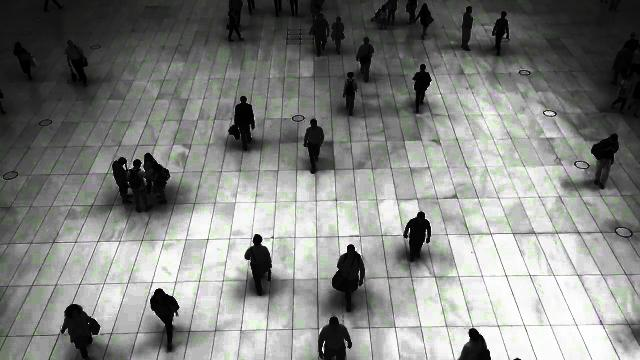berjalan: (148, 284, 186, 354), (334, 240, 366, 314), (590, 128, 622, 196), (244, 229, 274, 299), (401, 206, 434, 264), (227, 94, 261, 150), (300, 114, 326, 174), (62, 36, 88, 88), (408, 62, 434, 112), (492, 8, 516, 58), (310, 12, 330, 56), (330, 14, 346, 54)
